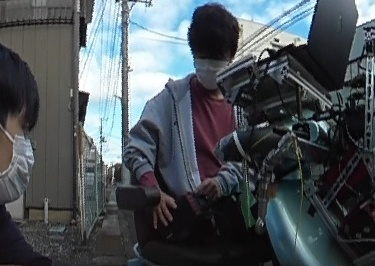person: (128, 2, 258, 266)
